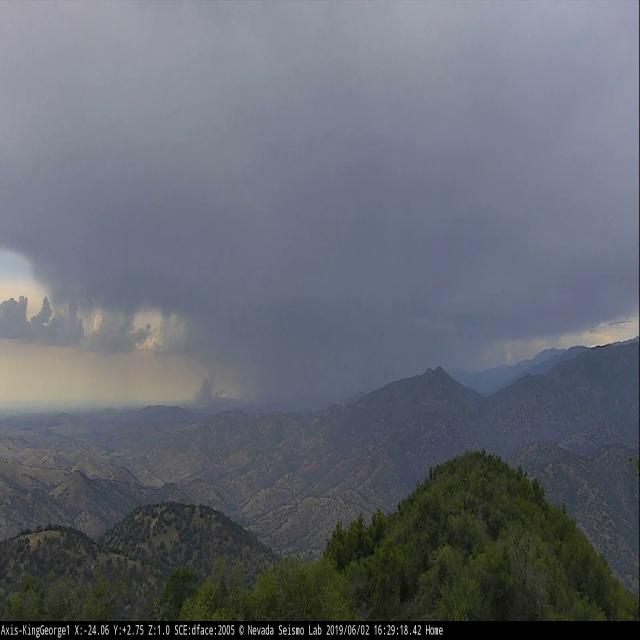smoke: (192, 371, 225, 409)
